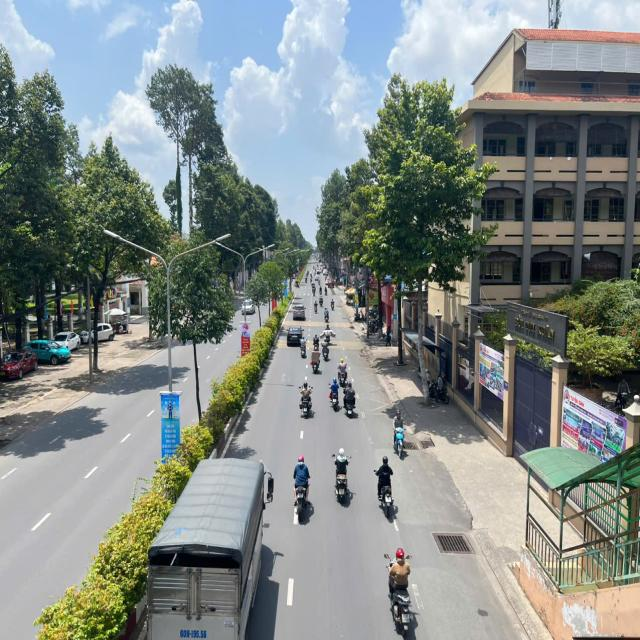ben: (133, 449, 277, 640)
car: (28, 334, 72, 372), (80, 310, 116, 348), (286, 320, 306, 354), (291, 297, 308, 321), (240, 294, 256, 318)
motobyte: (382, 544, 420, 640), (372, 452, 398, 522), (289, 452, 313, 526), (327, 443, 354, 508), (392, 406, 409, 461), (296, 376, 316, 419), (342, 377, 358, 421), (327, 376, 343, 413), (336, 356, 351, 392), (309, 342, 324, 377), (322, 335, 334, 366), (299, 333, 309, 359)
